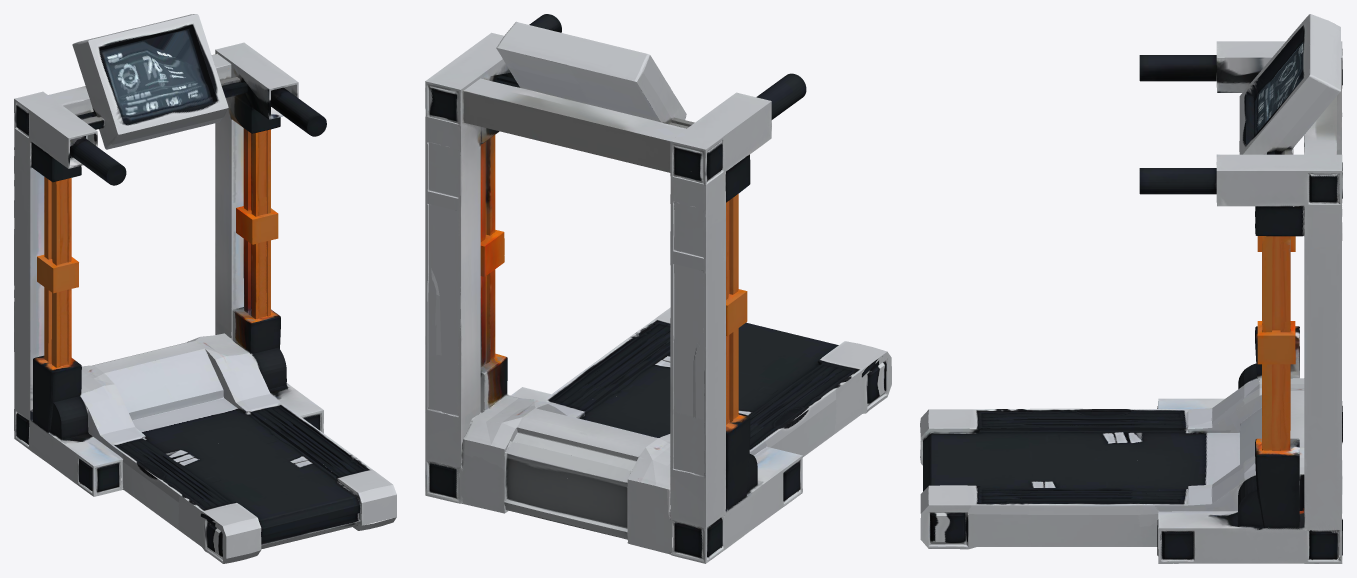
The model's file is Gym - Exercise Equipment1.glb.
3 views of the same model, side by side, from view 1: azimuth 30°, elevation 25°; view 2: azimuth 150°, elevation 25°; view 3: azimuth 270°, elevation 25° (orthographic). The views are drawn at different scales.
Visible parts, largest first — view 1: tripo_node_3b29afb5-35e3-4759-b65f-d4703000b767; view 2: tripo_node_3b29afb5-35e3-4759-b65f-d4703000b767; view 3: tripo_node_3b29afb5-35e3-4759-b65f-d4703000b767.
Boxes of the visible parts, x1=… form: tripo_node_3b29afb5-35e3-4759-b65f-d4703000b767: x1=14, y1=14, x2=396, y2=563; tripo_node_3b29afb5-35e3-4759-b65f-d4703000b767: x1=425, y1=14, x2=891, y2=563; tripo_node_3b29afb5-35e3-4759-b65f-d4703000b767: x1=920, y1=14, x2=1342, y2=563.
Bounding box in the file's own units: 0.6116 × 1 × 0.8382.
1 material, 1 textured.
